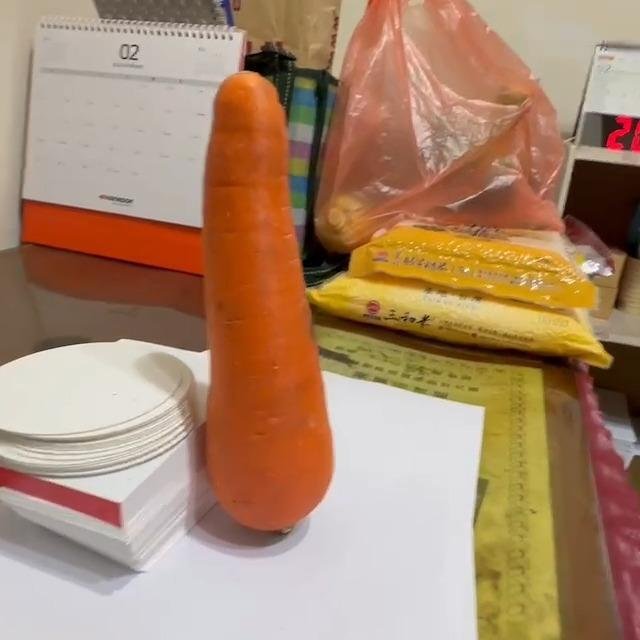carrot: (200, 72, 345, 539)
